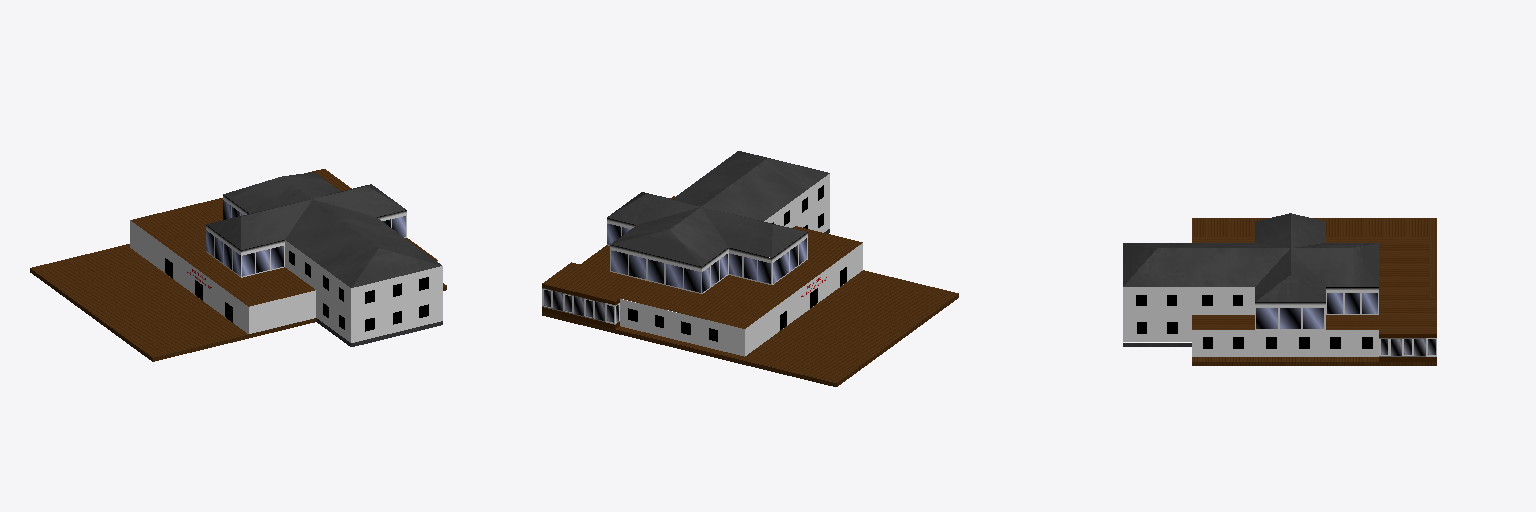
3 renders of one model, left to right at view 1: azimuth 30°, elevation 25°; view 2: azimuth 150°, elevation 25°; view 3: azimuth 270°, elevation 25°, orthographic.
Visible parts, largest first — view 1: 1._floor_Cube; view 2: 1._floor_Cube; view 3: 1._floor_Cube.
Part boxes in pixels (bbox=[...]): 1._floor_Cube: bbox=[30, 169, 446, 361]; 1._floor_Cube: bbox=[542, 151, 958, 386]; 1._floor_Cube: bbox=[1123, 213, 1436, 365].
Size of the model in its own units: 38.79 by 9.54 by 35.92.
Materials: 1 (1 with a texture image).